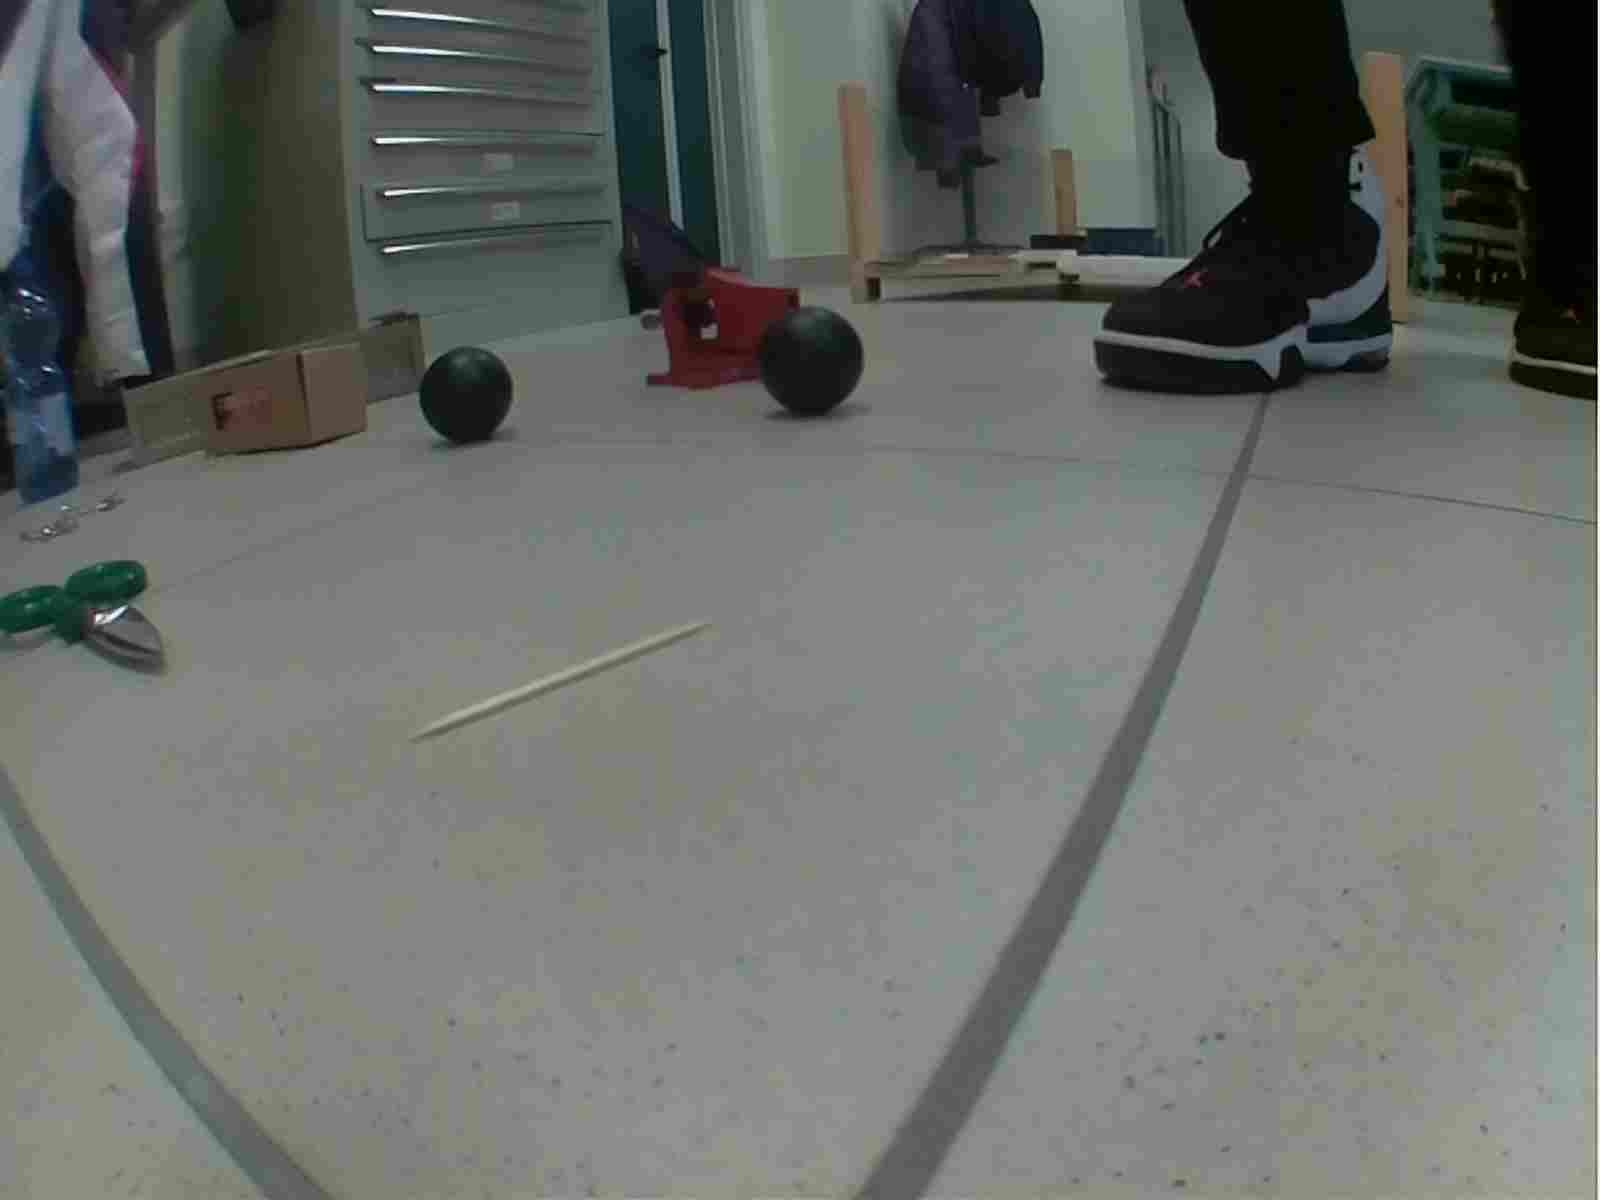nera: (756, 305, 866, 415), (416, 347, 513, 444)
